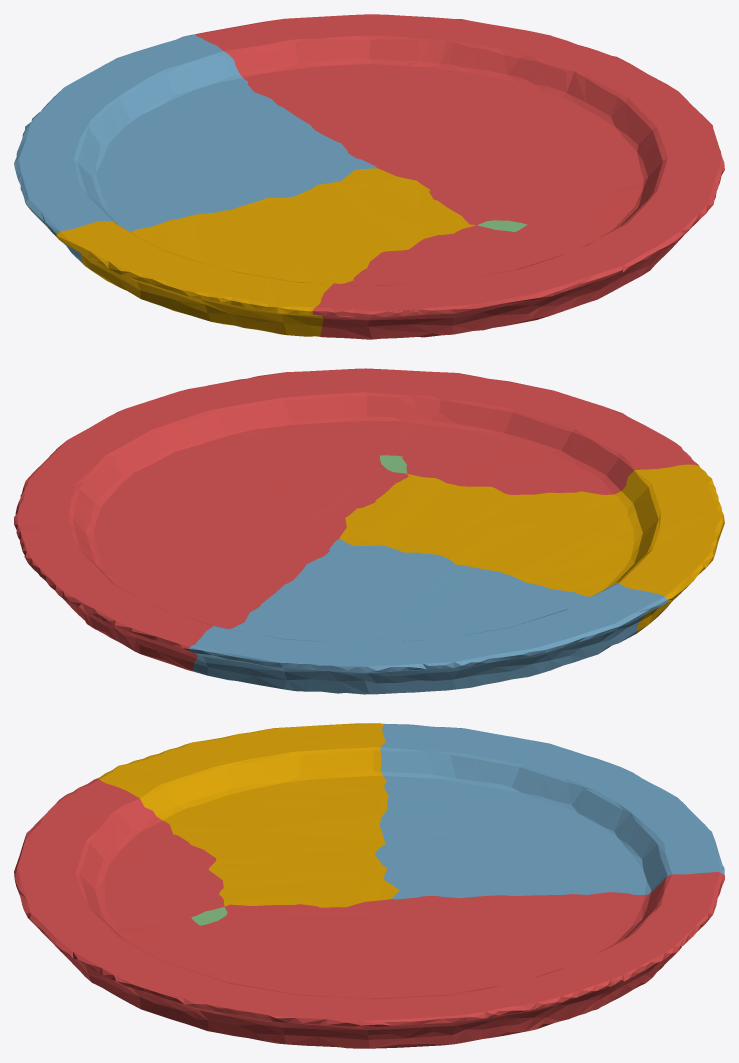
File: fractured_62_4pcs.glb
3 views of the same model, one above another, from view 1: azimuth 30°, elevation 25°; view 2: azimuth 150°, elevation 25°; view 3: azimuth 270°, elevation 25° (orthographic).
Parts seen in each view (by area): view 1: piece_1.obj, piece_2.obj, piece_0.obj; view 2: piece_1.obj, piece_2.obj, piece_0.obj; view 3: piece_1.obj, piece_2.obj, piece_0.obj.
Part boxes in pixels (<box>): piece_1.obj: <box>196,14,724,339</box>; piece_2.obj: <box>14,34,376,263</box>; piece_0.obj: <box>56,168,475,336</box>; piece_1.obj: <box>14,368,698,671</box>; piece_2.obj: <box>188,538,667,694</box>; piece_0.obj: <box>339,464,724,634</box>; piece_1.obj: <box>14,778,724,1048</box>; piece_2.obj: <box>375,723,724,899</box>; piece_0.obj: <box>97,723,399,907</box>.
Bounding box in the file's own units: 1 × 0.0672 × 0.9991.
